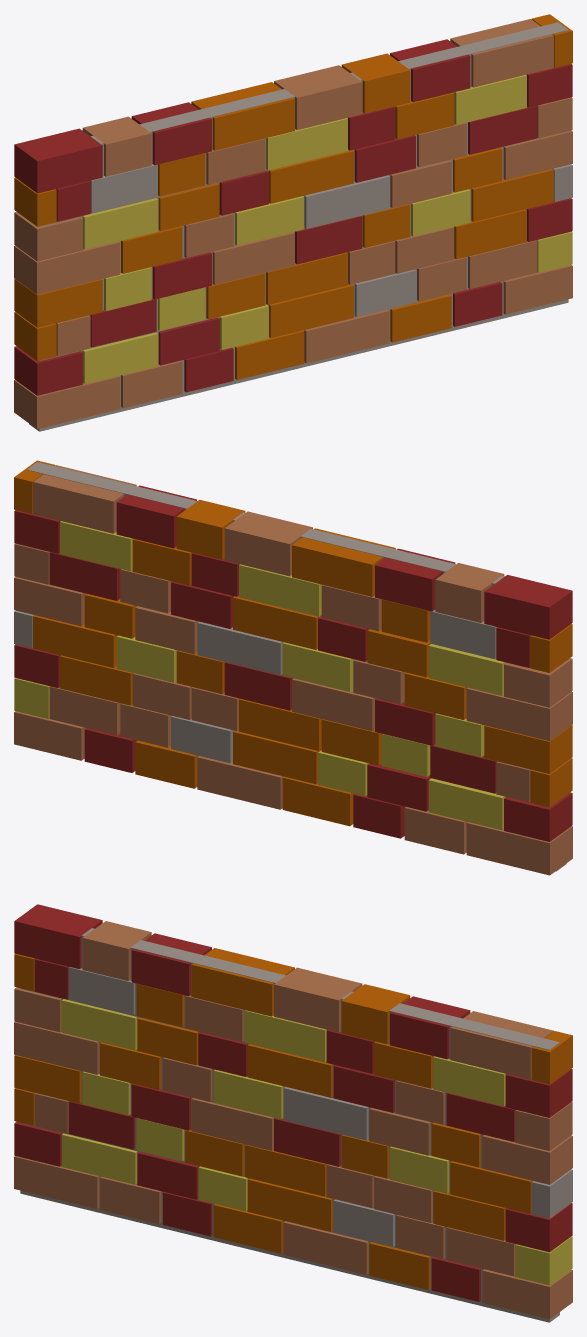
File: mur2.fbx
3 views of the same model, one above another, from view 1: azimuth 30°, elevation 25°; view 2: azimuth 150°, elevation 25°; view 3: azimuth 330°, elevation 25° (orthographic).
Parts seen in each view (by area): view 1: Plane.001, Cube.142, Cube.135, Cube.139, Cube.138, Cube.108, Cube.072, Cube.106, Cube.077, Cube.113, Cube.084, Cube.120 (+61 smaller); view 2: Cube.142, Cube.135, Cube.139, Cube.138, Cube.108, Cube.072, Plane.001, Cube.077, Cube.106, Cube.113, Cube.084, Cube.120 (+61 smaller); view 3: Plane.001, Cube.139, Cube.142, Cube.135, Cube.138, Cube.116, Cube.080, Cube.077, Cube.113, Cube.084, Cube.120, Cube.072 (+61 smaller).
Part boxes in pixels (<box>): Plane.001: <box>29,22,568,431</box>; Cube.142: <box>14,128,102,193</box>; Cube.135: <box>450,19,553,87</box>; Cube.139: <box>191,82,294,150</box>; Cube.138: <box>274,65,362,129</box>; Cube.108: <box>14,241,120,294</box>; Cube.072: <box>14,376,120,429</box>; Cube.106: <box>14,278,102,327</box>; Cube.077: <box>304,309,389,363</box>; Cube.113: <box>304,175,389,228</box>; Cube.084: <box>268,284,353,337</box>; Cube.120: <box>268,150,353,203</box>; Cube.142: <box>484,575,572,639</box>; Cube.135: <box>33,465,136,533</box>; Cube.139: <box>292,528,395,596</box>; Cube.138: <box>224,511,312,576</box>; Cube.108: <box>466,687,572,740</box>; Cube.072: <box>466,822,572,875</box>; Plane.001: <box>27,462,566,871</box>; Cube.077: <box>197,756,283,809</box>; Cube.106: <box>484,725,572,773</box>; Cube.113: <box>197,621,283,675</box>; Cube.084: <box>233,730,321,784</box>; Cube.120: <box>233,596,321,649</box>; Plane.001: <box>20,928,559,1322</box>; Cube.139: <box>191,948,294,1016</box>; Cube.142: <box>14,904,102,969</box>; Cube.135: <box>450,1011,553,1079</box>; Cube.138: <box>274,967,362,1032</box>; Cube.116: <box>482,1135,572,1184</box>; Cube.080: <box>482,1269,572,1319</box>; Cube.077: <box>283,1221,368,1274</box>; Cube.113: <box>283,1086,368,1140</box>; Cube.084: <box>247,1178,332,1231</box>; Cube.120: <box>247,1044,332,1097</box>; Cube.072: <box>14,1156,99,1208</box>.
Bounding box in the file's own units: 624 × 304 × 46.57.
